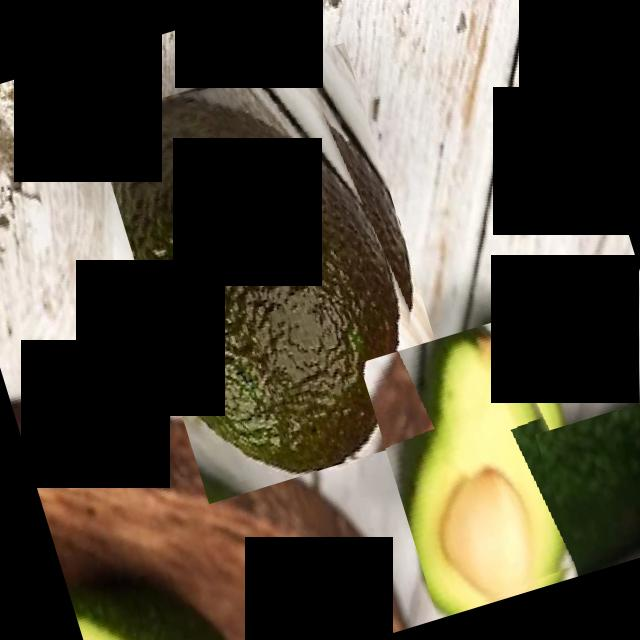avocado: (91, 41, 462, 504), (359, 309, 612, 619), (534, 391, 640, 576)
